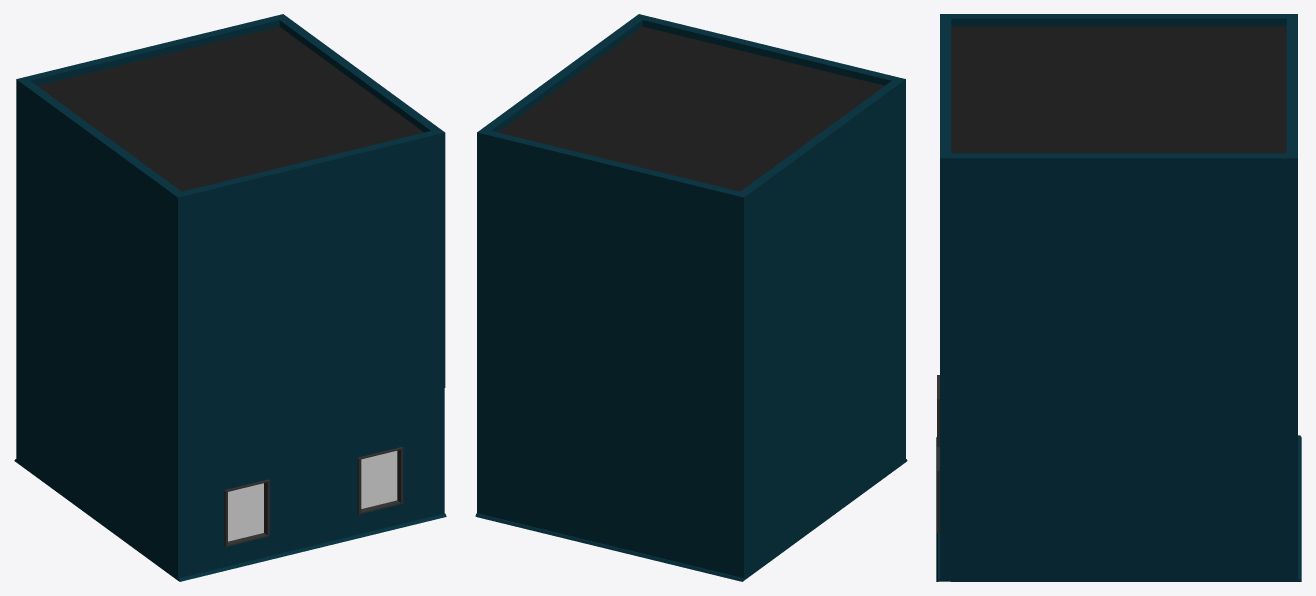
The model's file is side house3.fbx.
3 views of the same model, side by side, from view 1: azimuth 30°, elevation 25°; view 2: azimuth 150°, elevation 25°; view 3: azimuth 270°, elevation 25° (orthographic). The views are drawn at different scales.
Parts seen in each view (by area): view 1: PLAIN WALL.089; view 2: PLAIN WALL.089; view 3: PLAIN WALL.089.
Boxes of the visible parts, x1,y1,x2,y2 form: PLAIN WALL.089: (14, 14, 446, 581); PLAIN WALL.089: (475, 14, 907, 581); PLAIN WALL.089: (936, 14, 1301, 581).
Bounding box in the file's own units: 60.03 × 82.22 × 64.28.
